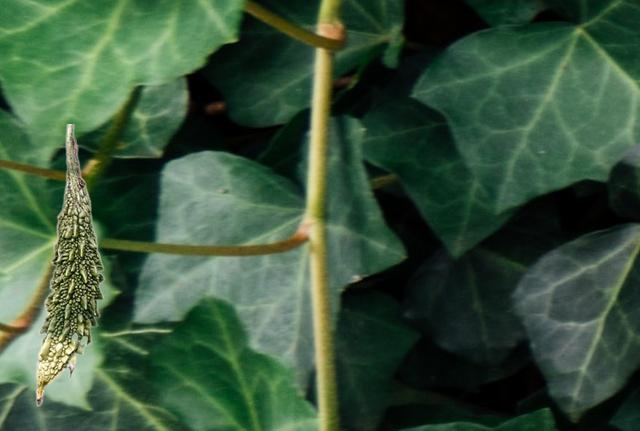ampalaya: (35, 124, 104, 406)
